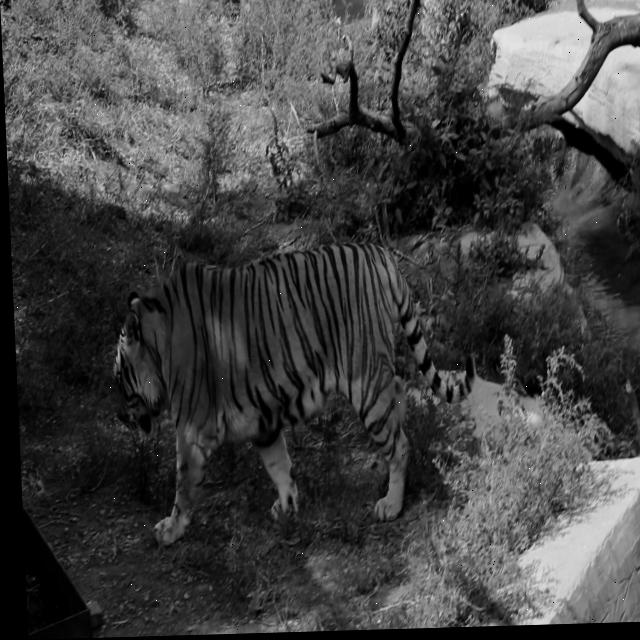Tiger: (106, 228, 483, 549)
